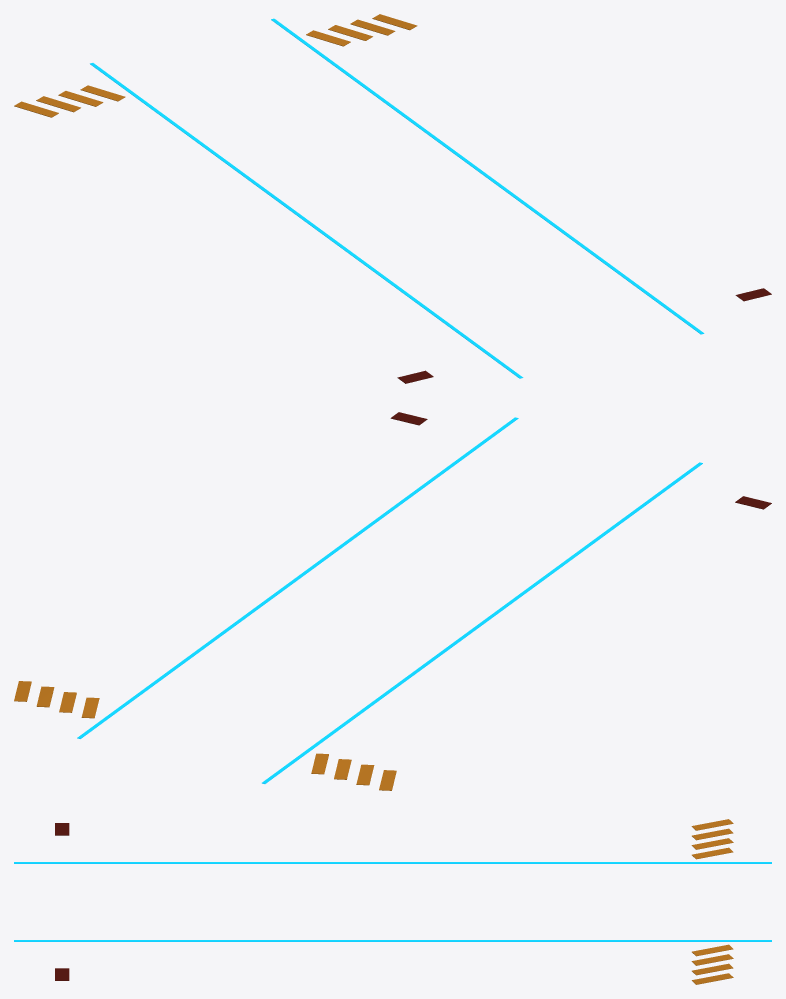
Rendered from Deck_ServiceMarkings.fbx.
The picture shows the model from 3 angles, top to bottom: view 1: azimuth 30°, elevation 25°; view 2: azimuth 150°, elevation 25°; view 3: azimuth 270°, elevation 25°; orthographic projection. The views are drawn at different scales.
Visible parts, largest first — view 1: Deck_ServiceMarkings; view 2: Deck_ServiceMarkings; view 3: Deck_ServiceMarkings.
Boxes of the visible parts, x1,y1,x2,y2 form: Deck_ServiceMarkings: (14,14,771,383); Deck_ServiceMarkings: (14,412,771,790); Deck_ServiceMarkings: (14,819,771,984).
Bounding box in the file's own units: 3.82 × 0.004 × 7.4.
